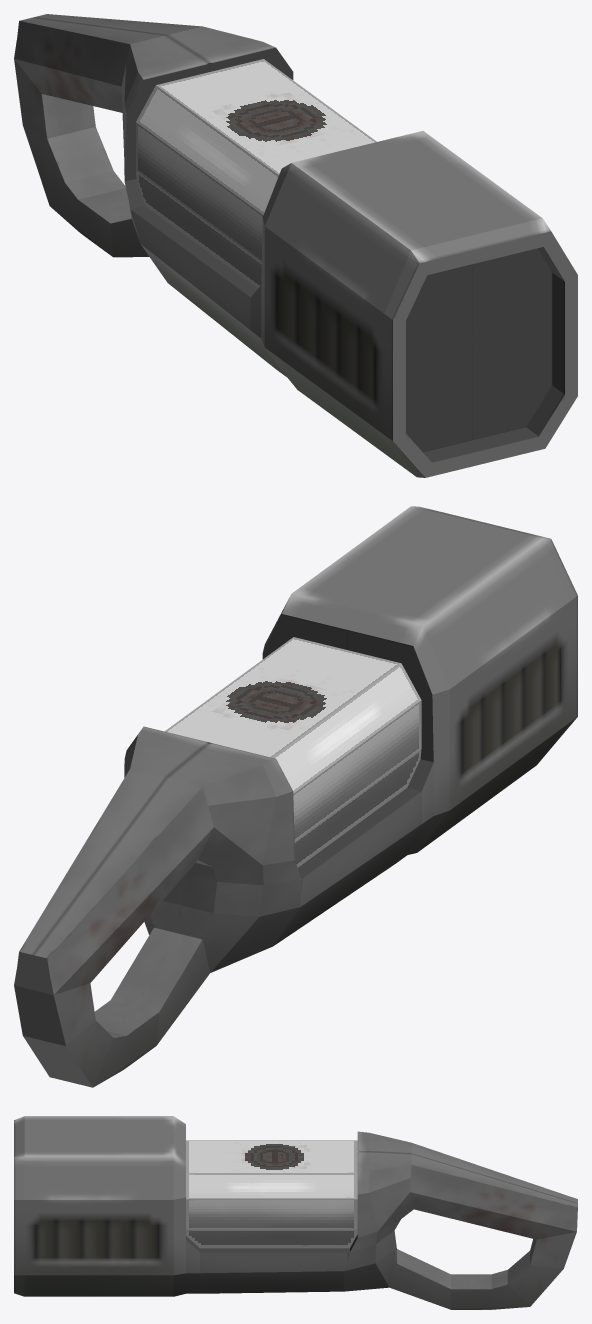
File: FPSPacMan - Stungun.fbx
The picture shows the model from 3 angles, top to bottom: view 1: azimuth 30°, elevation 25°; view 2: azimuth 150°, elevation 25°; view 3: azimuth 270°, elevation 25°; orthographic projection. The views are drawn at different scales.
Parts seen in each view (by area): view 1: Cube, Cube.001; view 2: Cube, Cube.001; view 3: Cube, Cube.001.
Part boxes in pixels (<box>): Cube: <box>14,14,577,477</box>; Cube.001: <box>136,59,376,288</box>; Cube: <box>14,506,577,1087</box>; Cube.001: <box>164,637,421,867</box>; Cube: <box>14,1116,577,1309</box>; Cube.001: <box>186,1140,358,1248</box>.
Size of the model in its own units: 118 by 163 by 499.
